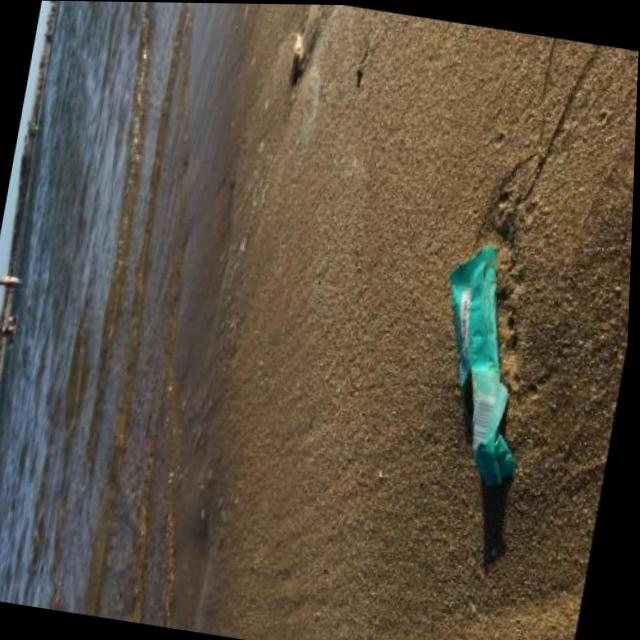plastic: (410, 235, 560, 491)
